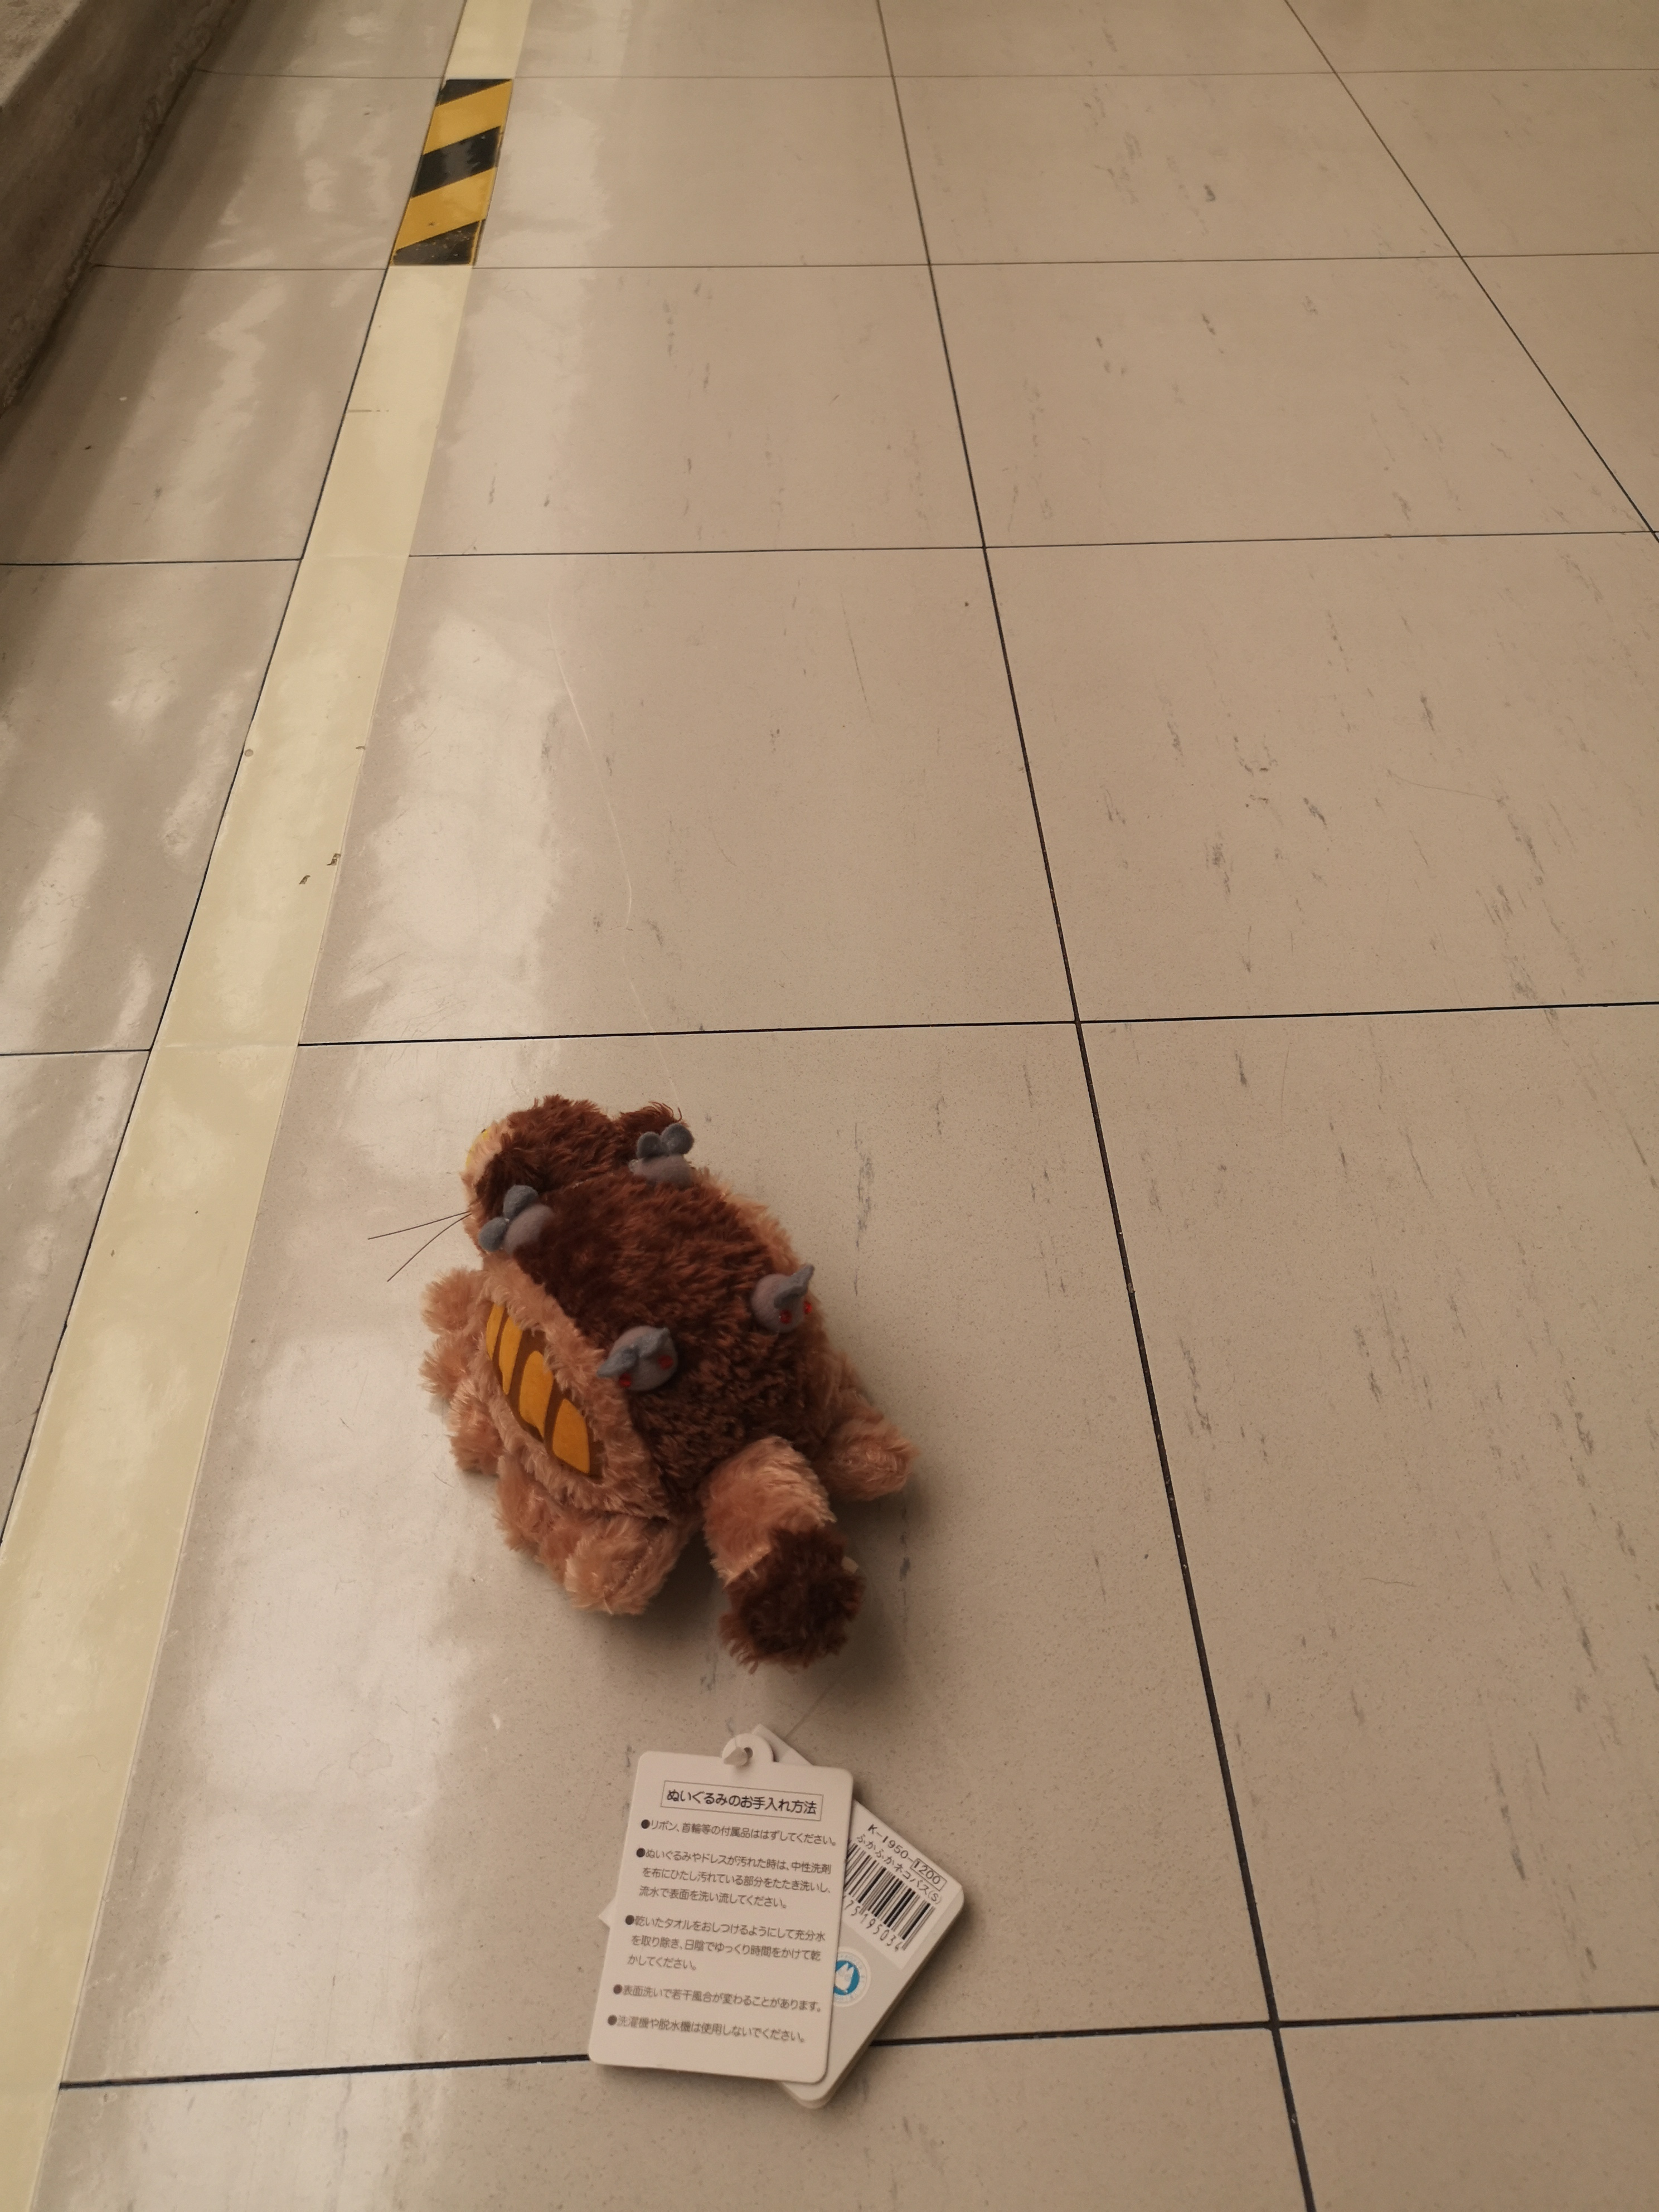nekobus: (406, 1083, 934, 1684)
